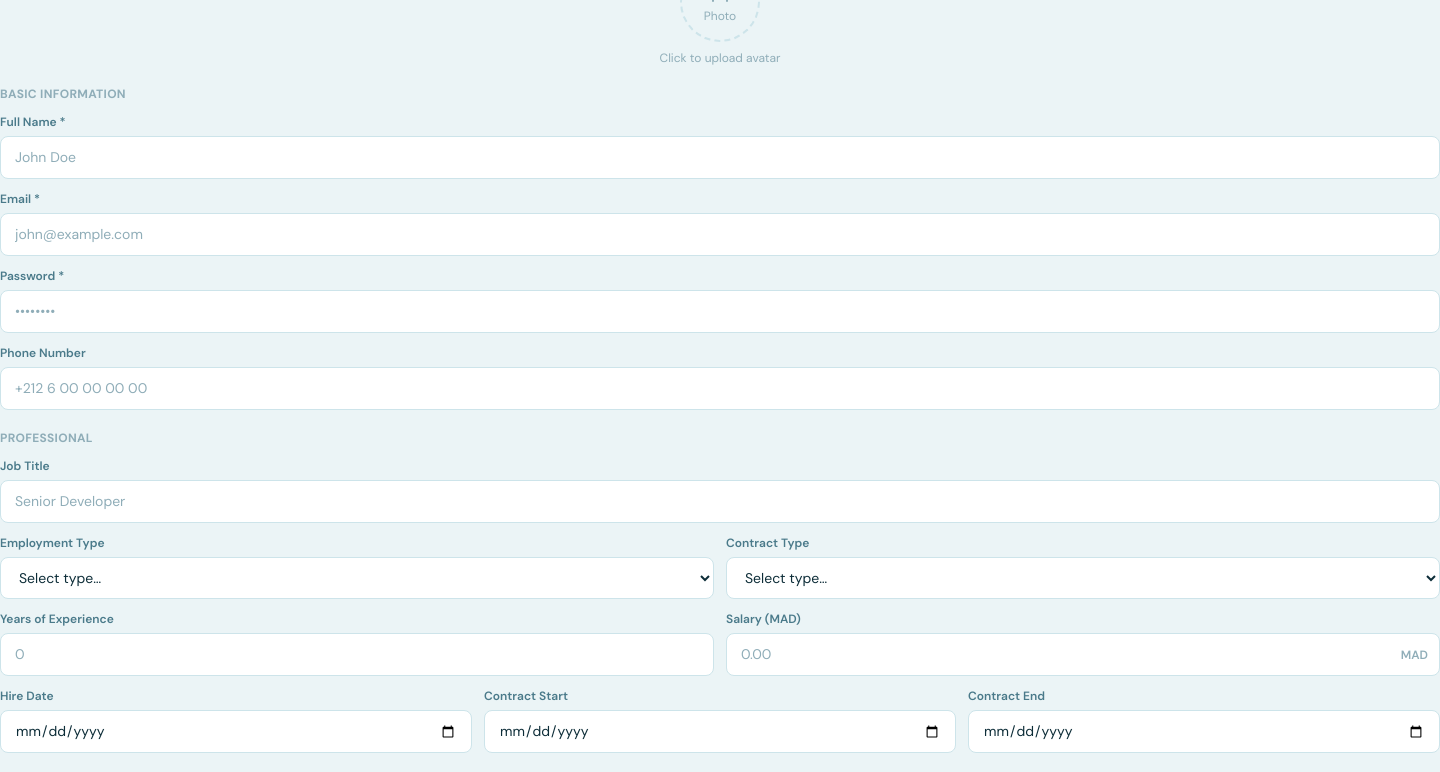
Test case: UserForm — create manager › shows password required error
This screenshot has width=1440, height=772.
In the field with placeholder "John Doe": (720, 158) [0, 136, 1439, 179], type "Test"
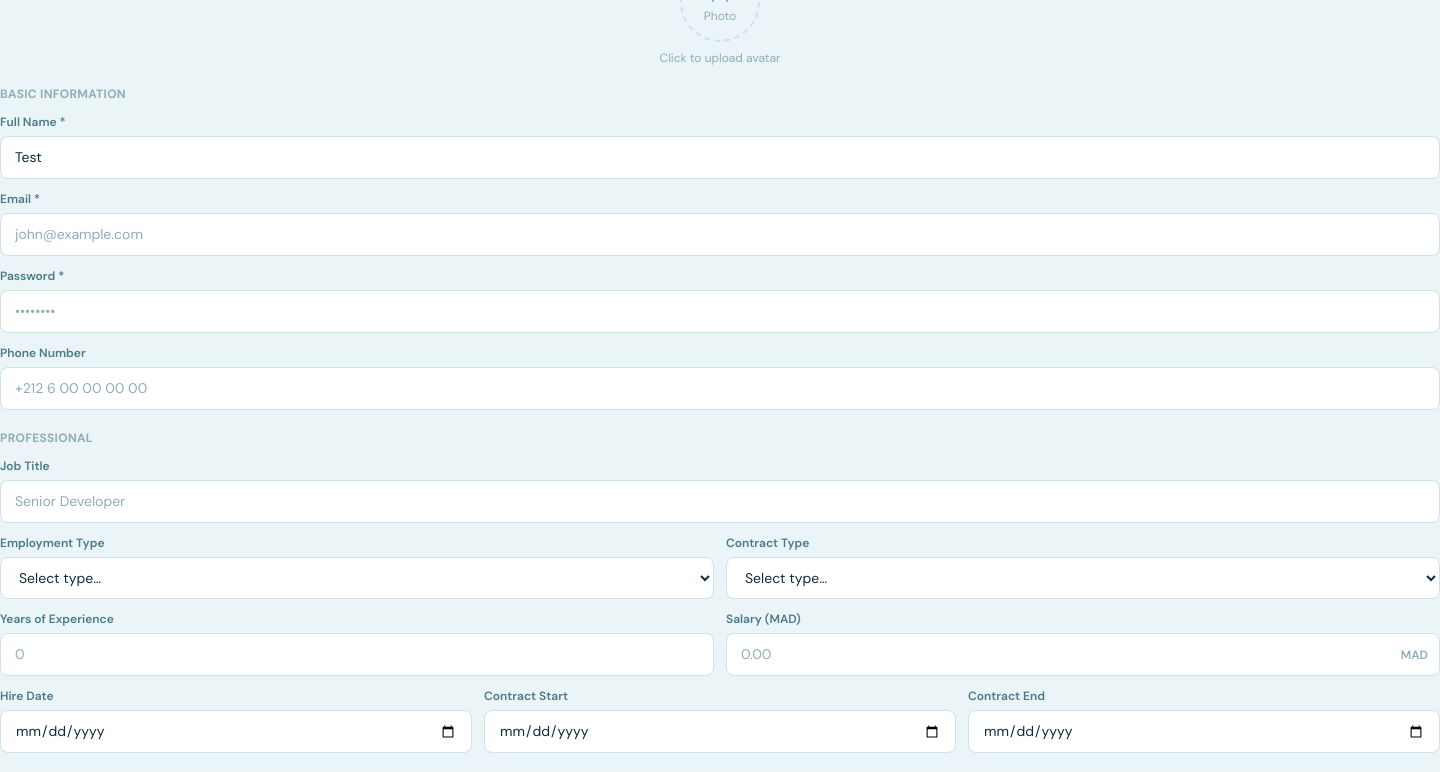
In the field with placeholder "john@example.com": (720, 234) [0, 213, 1439, 256], type "test@test.com"
(page scrolled)
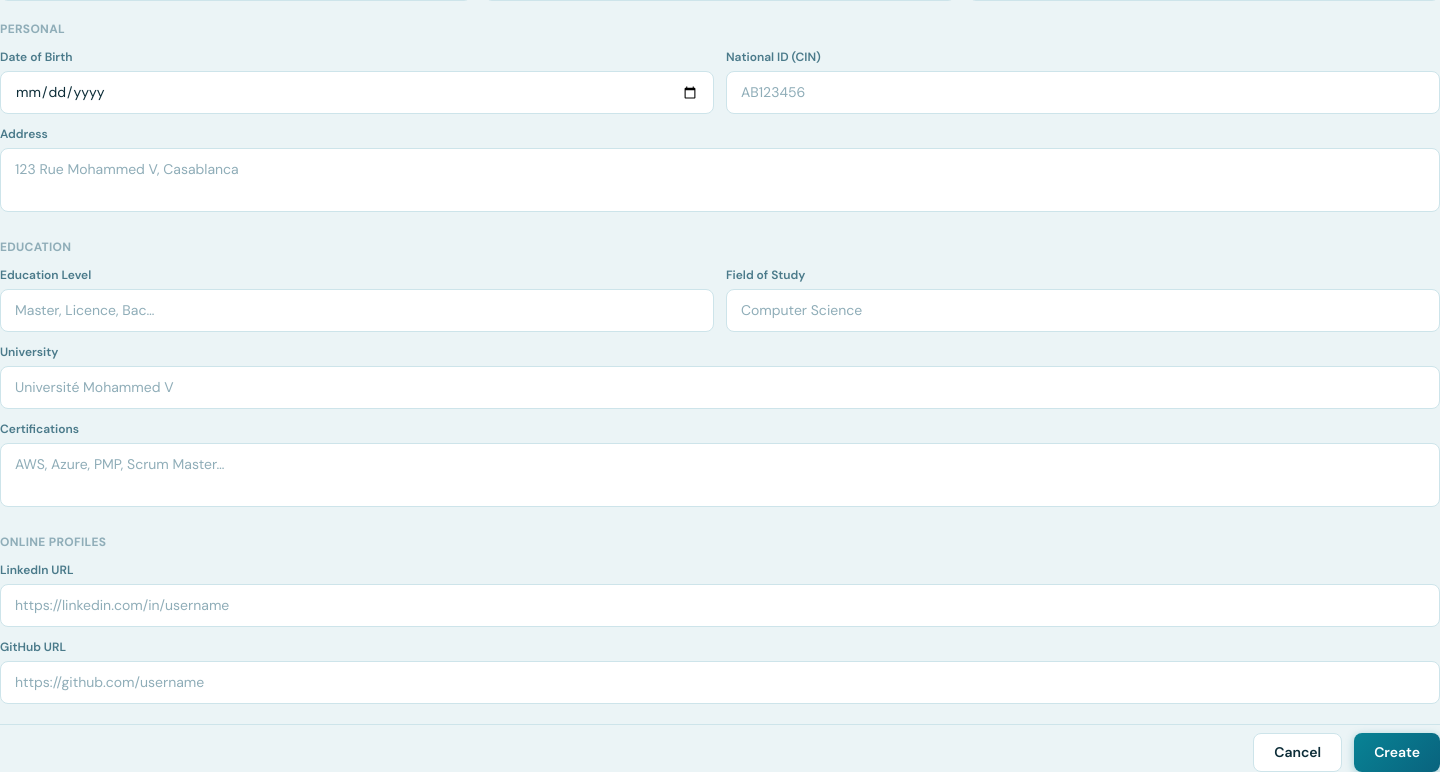
Click the button "Create": (1397, 752) [1354, 733, 1439, 771]
(page scrolled)
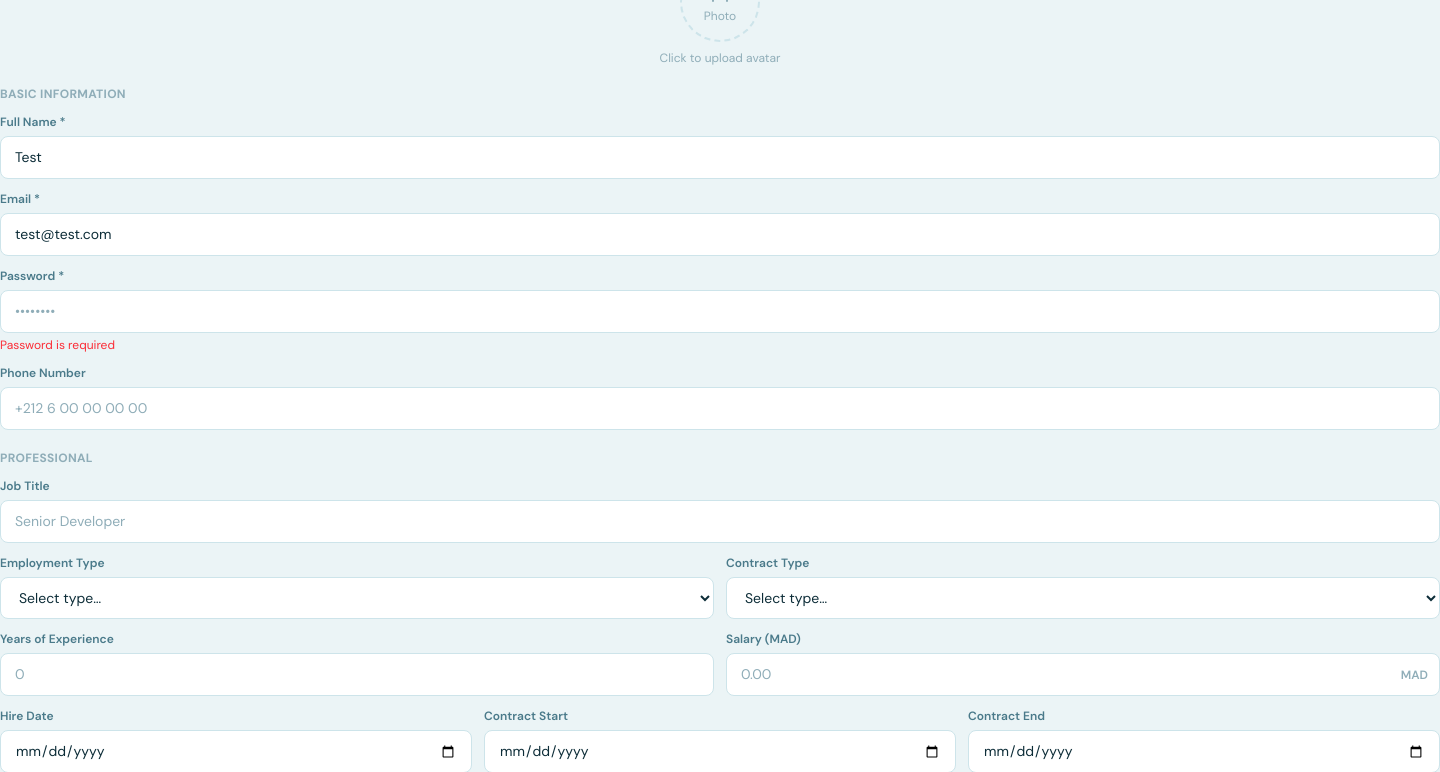
Result: the text "Password is required" is shown at [0, 337, 115, 353]
